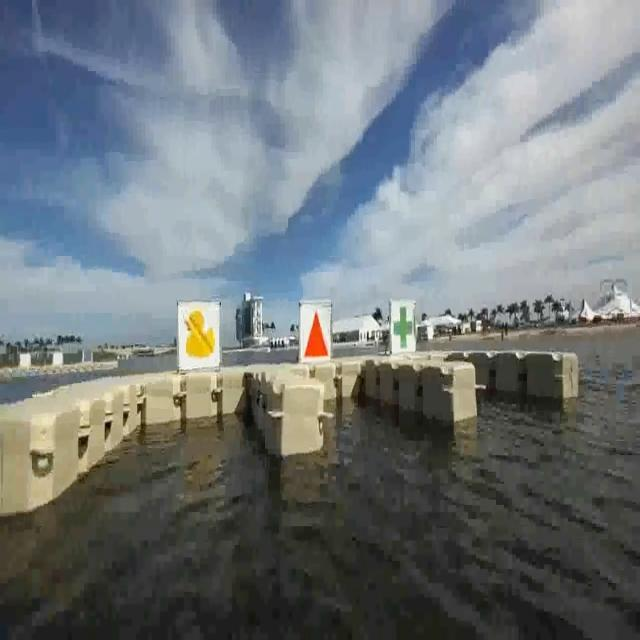blue-cross: (392, 300, 415, 352)
red-dot: (300, 304, 328, 370)
yellow-duck: (184, 306, 217, 359)
